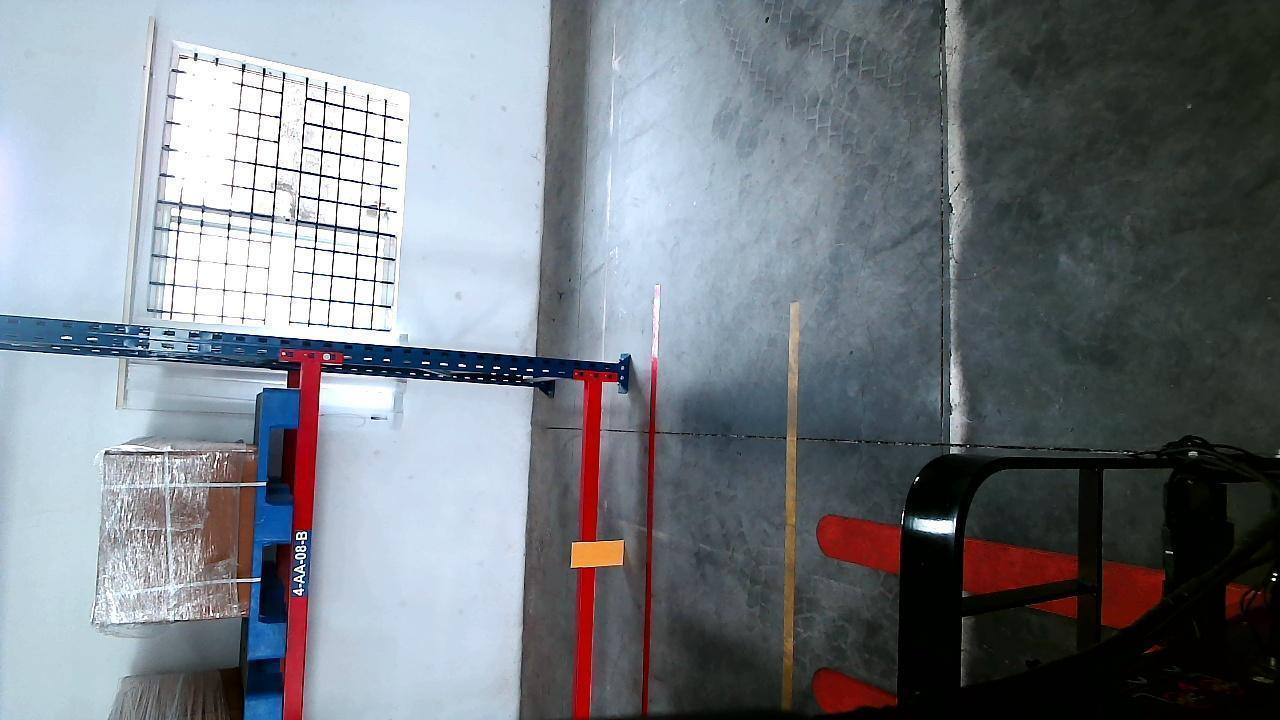red_line: (644, 360, 662, 720)
yellow_line: (779, 304, 801, 706)
